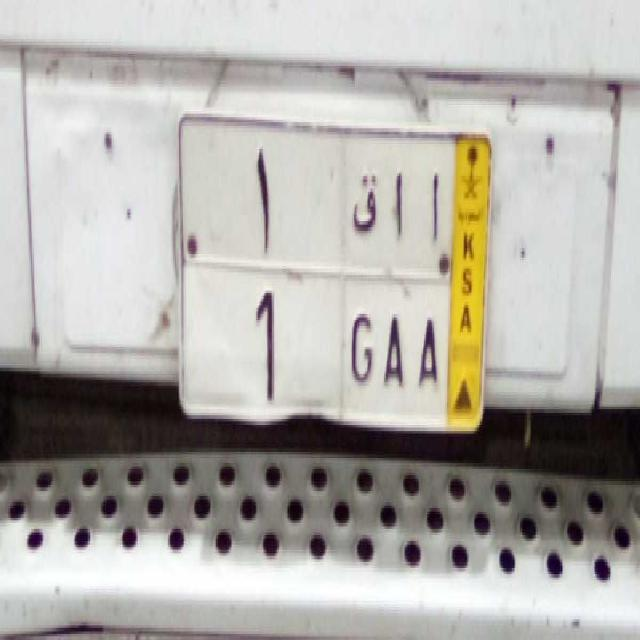license_plate: (180, 254, 448, 426)
